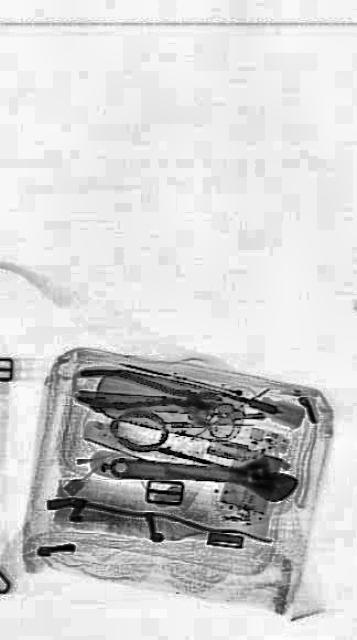Pliers: (75, 366, 221, 418)
Wrench: (108, 444, 296, 501)
